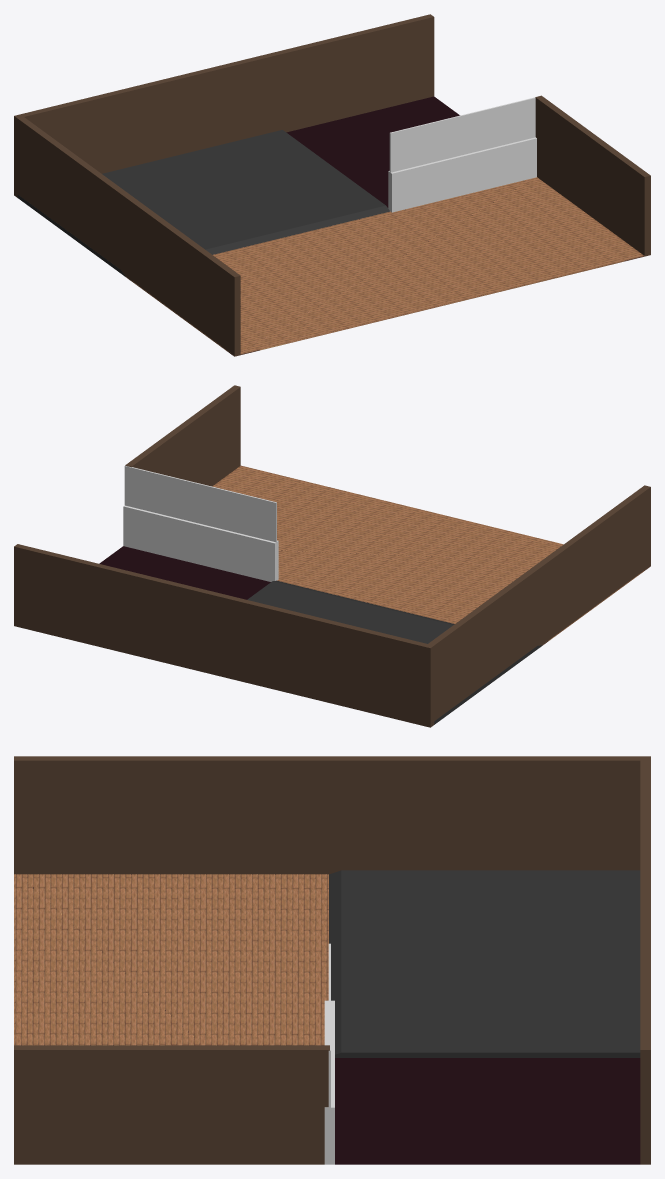
The model's file is MAP.fbx.
The picture shows the model from 3 angles, top to bottom: view 1: azimuth 30°, elevation 25°; view 2: azimuth 150°, elevation 25°; view 3: azimuth 270°, elevation 25°; orthographic projection. The views are drawn at different scales.
Visible parts, largest first — view 1: Wall, Cube.001, Cube, Plane, Cube.002, Cube.003; view 2: Wall, Cube.001, Cube.002, Cube.003, Cube, Plane; view 3: Wall, Cube, Cube.001, Plane, Cube.002.
Boxes of the visible parts, bbox=[...] form: Wall: bbox=[14, 14, 650, 356]; Cube.001: bbox=[126, 177, 649, 356]; Cube: bbox=[17, 130, 389, 276]; Plane: bbox=[286, 96, 459, 207]; Cube.002: bbox=[388, 137, 536, 212]; Cube.003: bbox=[389, 97, 535, 172]; Wall: bbox=[14, 385, 650, 727]; Cube.001: bbox=[212, 465, 650, 645]; Cube.002: bbox=[123, 505, 278, 581]; Cube.003: bbox=[124, 465, 276, 542]; Cube: bbox=[247, 580, 542, 724]; Plane: bbox=[99, 546, 270, 599]; Wall: bbox=[14, 756, 650, 1164]; Cube: bbox=[329, 870, 640, 1057]; Cube.001: bbox=[14, 874, 328, 1045]; Plane: bbox=[335, 1058, 640, 1164]; Cube.002: bbox=[324, 1000, 334, 1164].
Bounding box in the file's own units: 2200 × 401 × 2017.
